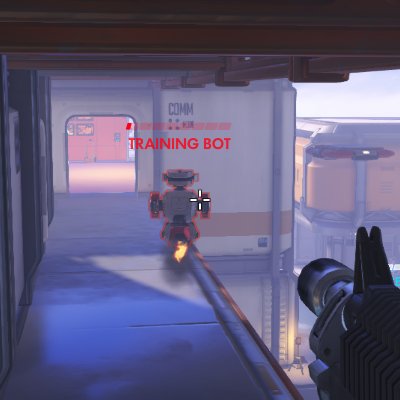hpbar: (125, 122, 232, 131)
